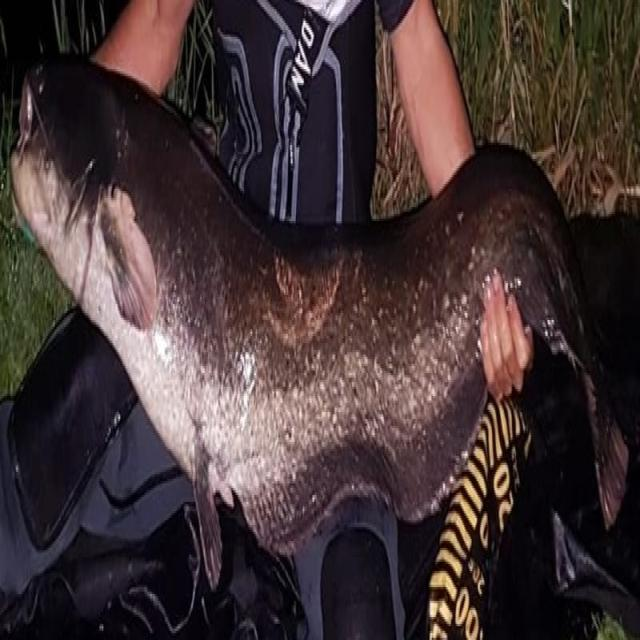Catfish: (14, 49, 632, 601)
